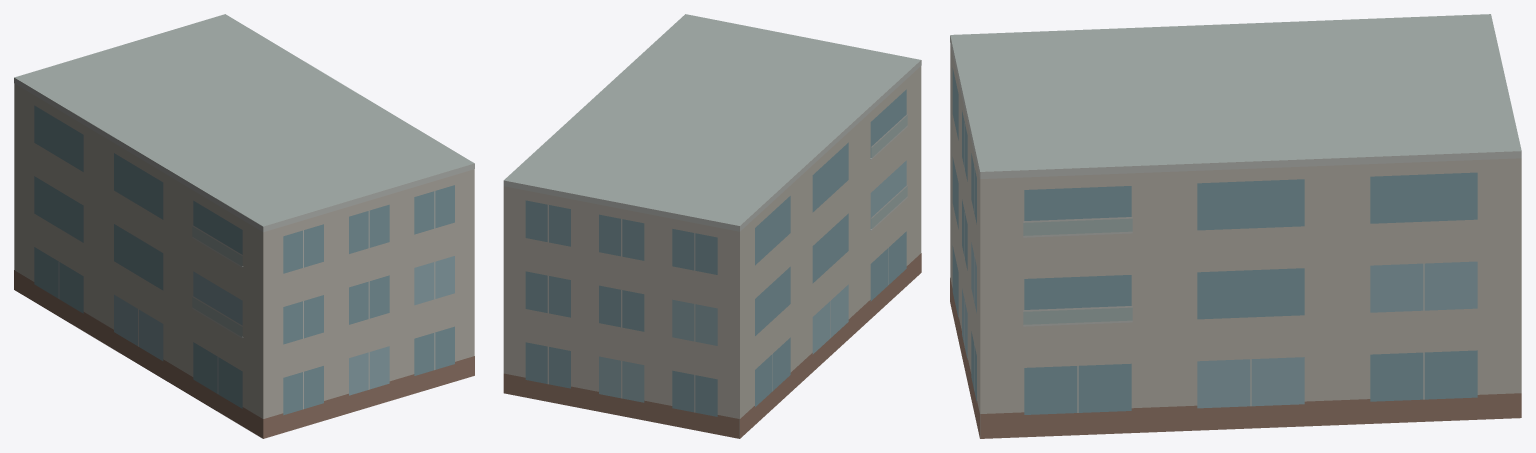
Rendered from survey-upis-32921692.glb.
3 views of the same model, side by side, from view 1: azimuth 30°, elevation 25°; view 2: azimuth 150°, elevation 25°; view 3: azimuth 270°, elevation 25° (orthographic). The views are drawn at different scales.
Visible parts, largest first — view 1: survey-upis-32921692.tmp; view 2: survey-upis-32921692.tmp; view 3: survey-upis-32921692.tmp.
Boxes of the visible parts, x1,y1,x2,y2 form: survey-upis-32921692.tmp: (14,14,474,438); survey-upis-32921692.tmp: (503,14,921,438); survey-upis-32921692.tmp: (950,14,1521,438).
Bounding box in the file's own units: 11.56 × 9.1 × 17.67.
